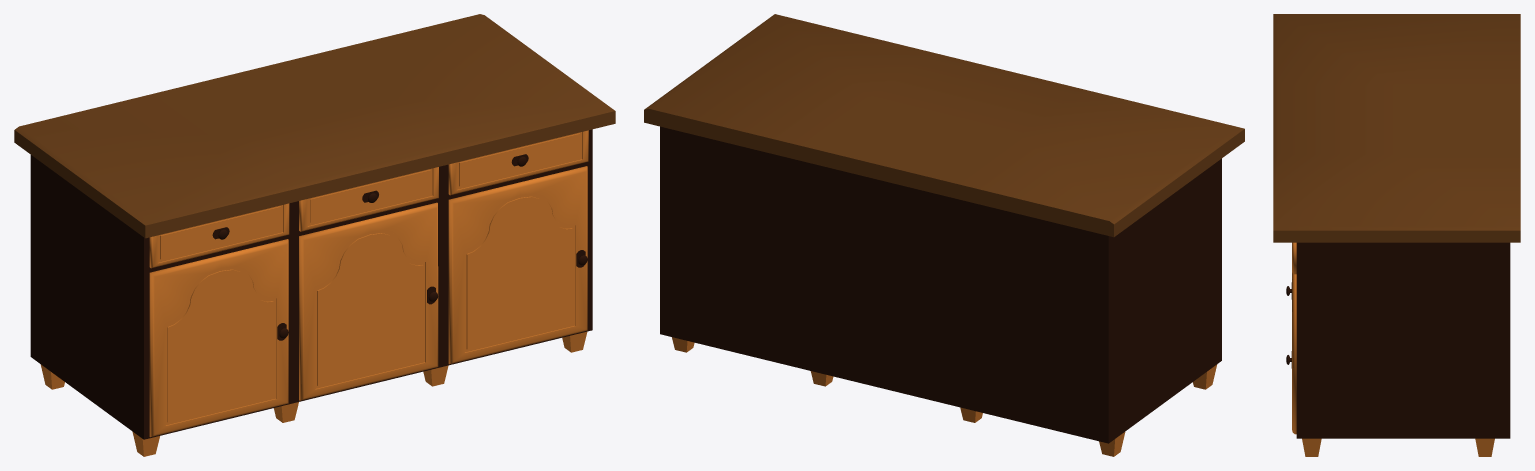
The model's file is SM_Commode.fbx.
The picture shows the model from 3 angles, left to right: view 1: azimuth 30°, elevation 25°; view 2: azimuth 150°, elevation 25°; view 3: azimuth 270°, elevation 25°; orthographic projection. The views are drawn at different scales.
Parts seen in each view (by area): view 1: SM_Commode; view 2: SM_Commode; view 3: SM_Commode.
Part boxes in pixels (<box>): SM_Commode: <box>14,14,615,456</box>; SM_Commode: <box>644,14,1244,456</box>; SM_Commode: <box>1273,14,1520,456</box>.
Size of the model in its own units: 1.68 by 0.8513 by 0.8087.
